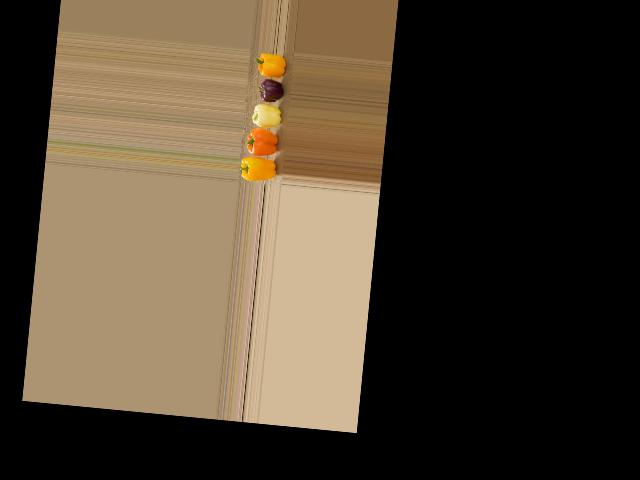bell_pepper: (252, 49, 292, 77)
